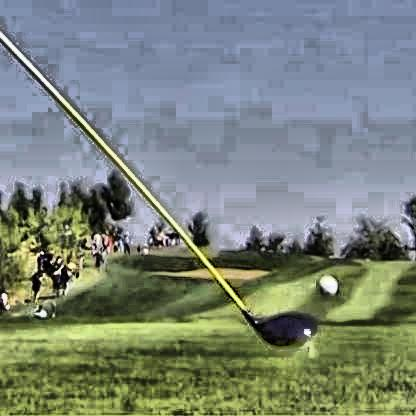golfball: (315, 272, 336, 293)
